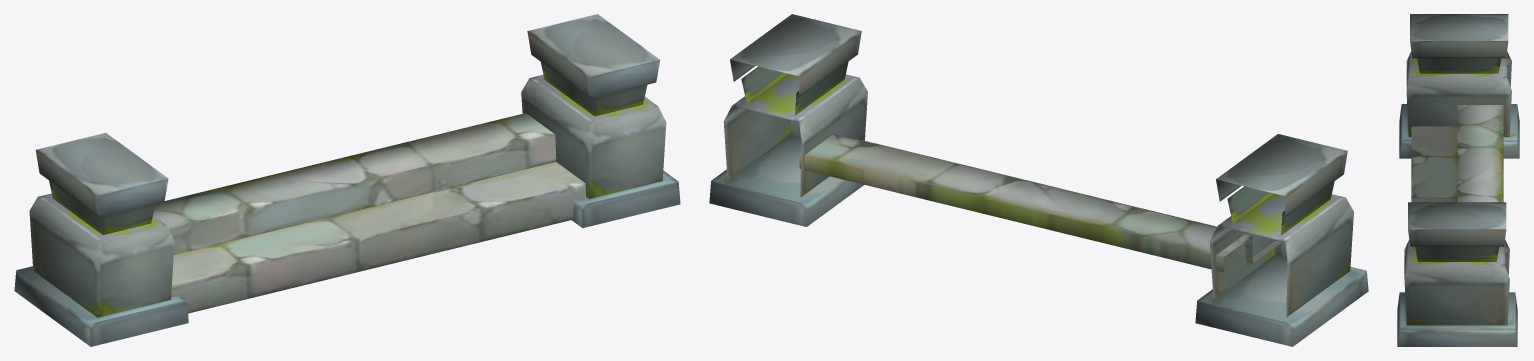
The model's file is Map_06_stairs05.FBX.
3 renders of one model, left to right at view 1: azimuth 30°, elevation 25°; view 2: azimuth 150°, elevation 25°; view 3: azimuth 270°, elevation 25°, orthographic. The views are drawn at different scales.
Visible parts, largest first — view 1: Map_06_stairs05; view 2: Map_06_stairs05; view 3: Map_06_stairs05.
Part boxes in pixels (x1,y1,x2,y2): Map_06_stairs05: [14, 14, 680, 346]; Map_06_stairs05: [709, 14, 1368, 346]; Map_06_stairs05: [1397, 14, 1519, 346].
Size of the model in its own units: 927 by 212 by 215.
